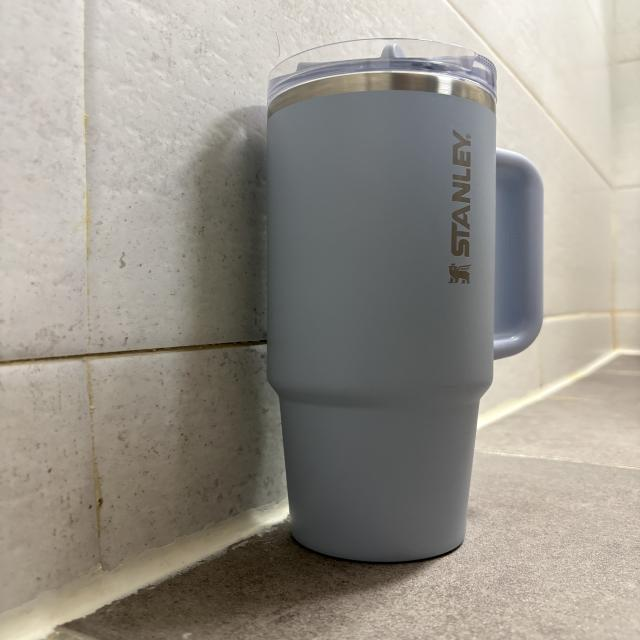waterbottle: (266, 36, 543, 560)
